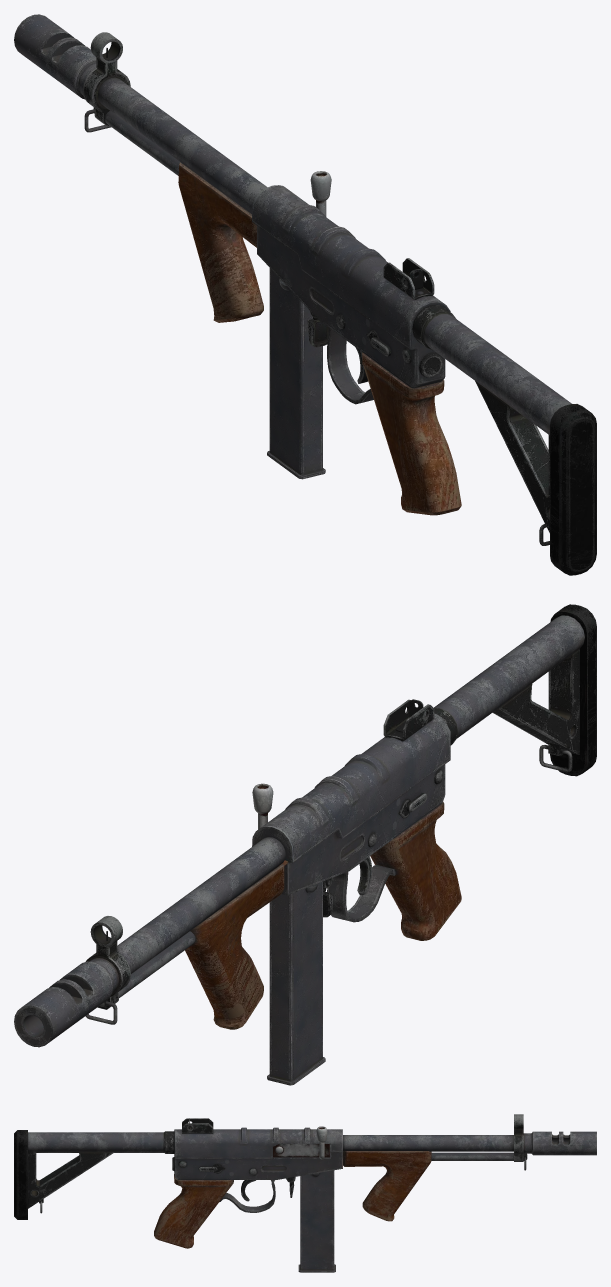
The model's file is smg.glb.
3 views of the same model, one above another, from view 1: azimuth 30°, elevation 25°; view 2: azimuth 150°, elevation 25°; view 3: azimuth 270°, elevation 25° (orthographic). The views are drawn at different scales.
Parts seen in each view (by area): view 1: base_smg_0, clip_smg_0; view 2: base_smg_0, clip_smg_0, bolt_smg_0; view 3: base_smg_0, clip_smg_0, bolt_smg_0.
Boxes of the visible parts, bbox=[...] form: base_smg_0: bbox=[14, 14, 596, 575]; clip_smg_0: bbox=[267, 268, 325, 479]; base_smg_0: bbox=[14, 604, 596, 1047]; clip_smg_0: bbox=[267, 881, 325, 1085]; bolt_smg_0: bbox=[252, 783, 273, 829]; base_smg_0: bbox=[14, 1114, 596, 1248]; clip_smg_0: bbox=[298, 1170, 335, 1272]; bolt_smg_0: bbox=[273, 1126, 329, 1159].
Bounding box in the file's own units: 5.88 × 27.68 × 95.
Materials: 1 (1 with a texture image).
